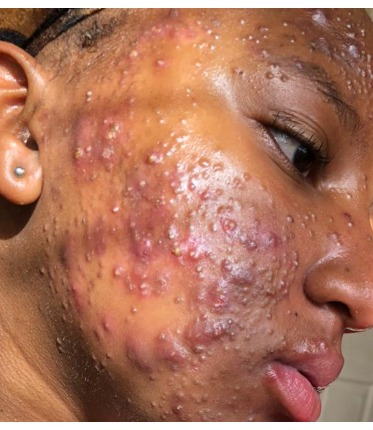Acne: (188, 169, 287, 315), (104, 118, 120, 143), (133, 175, 150, 191), (99, 145, 116, 161), (71, 143, 86, 161), (169, 242, 185, 258), (214, 321, 229, 338), (146, 150, 161, 166), (110, 265, 125, 281), (166, 223, 178, 241), (111, 205, 122, 216)
